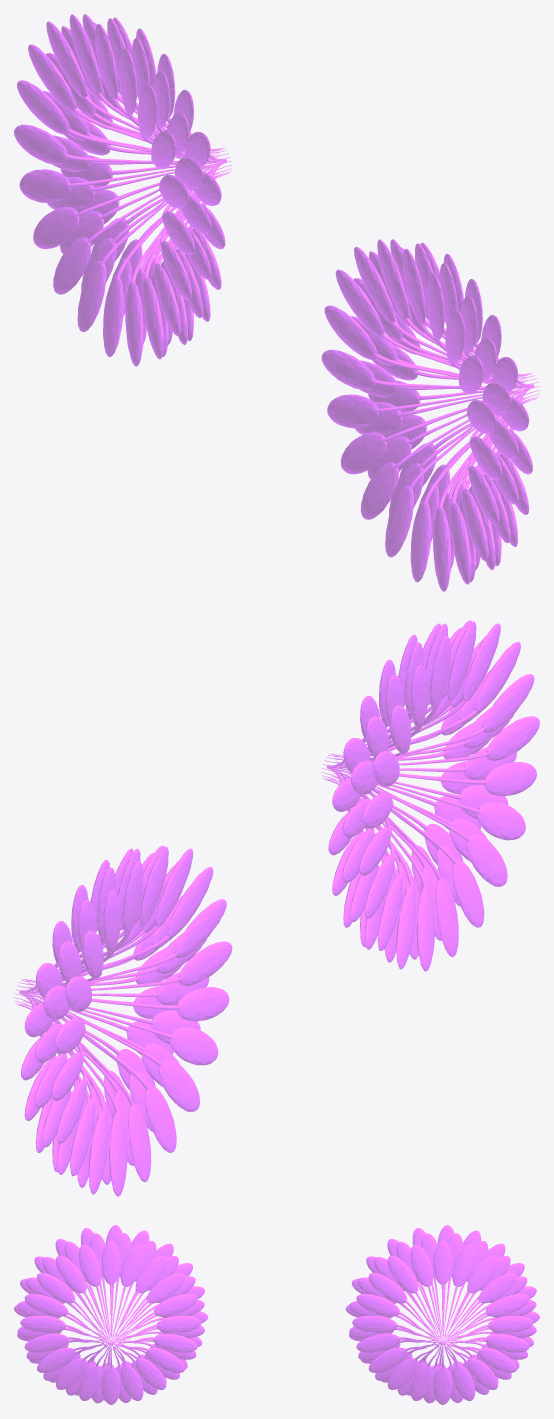
File: femalemammaryglandv6.glb
3 views of the same model, one above another, from view 1: azimuth 30°, elevation 25°; view 2: azimuth 150°, elevation 25°; view 3: azimuth 270°, elevation 25° (orthographic). The views are drawn at different scales.
Parts seen in each view (by area): view 1: Sphere (×52); view 2: Sphere (×54); view 3: Sphere (×62).
Boxes of the visible parts, box(x1,y1,x2,y2) form: Sphere (×52): box(14, 14, 519, 591); Sphere (×54): box(34, 621, 539, 1196); Sphere (×62): box(17, 1233, 536, 1404).
Bounding box in the file's own units: 34.68 × 87.83 × 238.
